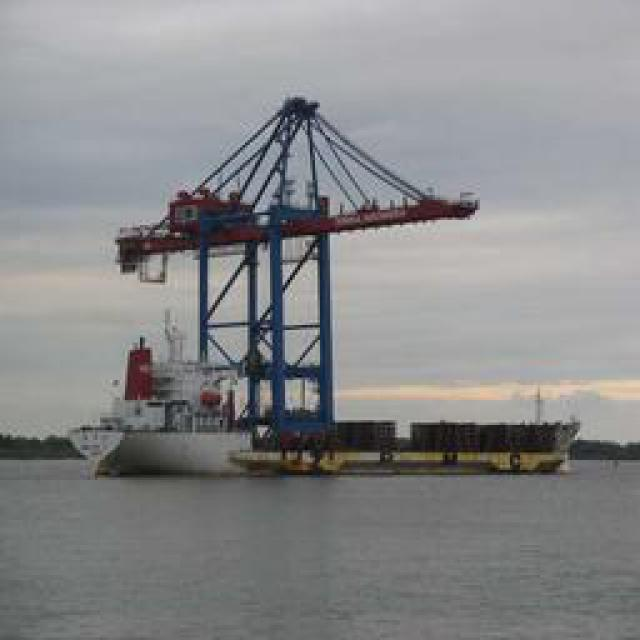Ship: (226, 410, 592, 486)
